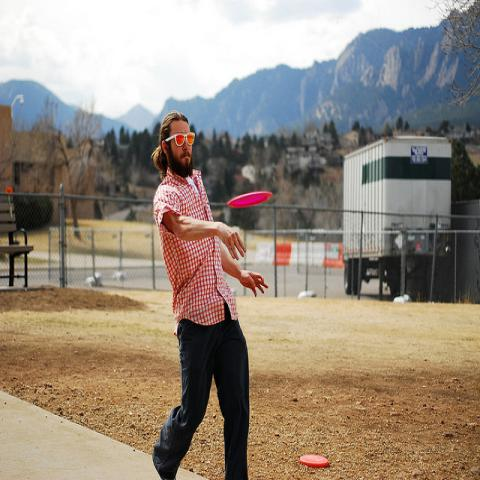truck: (343, 135, 452, 302)
